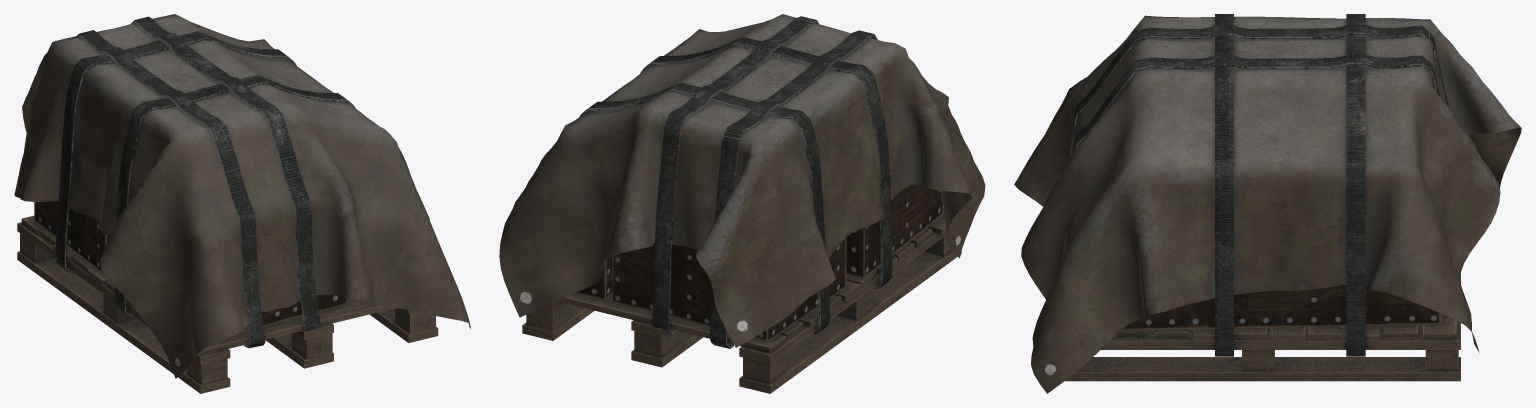
File: Tarp6.glb
3 views of the same model, side by side, from view 1: azimuth 30°, elevation 25°; view 2: azimuth 150°, elevation 25°; view 3: azimuth 270°, elevation 25° (orthographic). The views are drawn at different scales.
Visible parts, largest first — view 1: polySurface36, polySurface33, polySurface4; view 2: polySurface36, polySurface33, polySurface4; view 3: polySurface36, polySurface33, polySurface4.
Boxes of the visible parts, box(x1,y1,x2,y2) form: polySurface36: box(14, 14, 470, 378); polySurface33: box(55, 16, 355, 348); polySurface4: box(17, 215, 438, 393); polySurface36: box(499, 14, 985, 347); polySurface33: box(579, 16, 892, 348); polySurface4: box(522, 207, 961, 393); polySurface36: box(1014, 15, 1521, 393); polySurface33: box(1072, 14, 1448, 356); polySurface4: box(1065, 273, 1460, 381).
Bounding box in the file's own units: 1.82 × 1.22 × 2.22.
3 materials, 3 textured.
